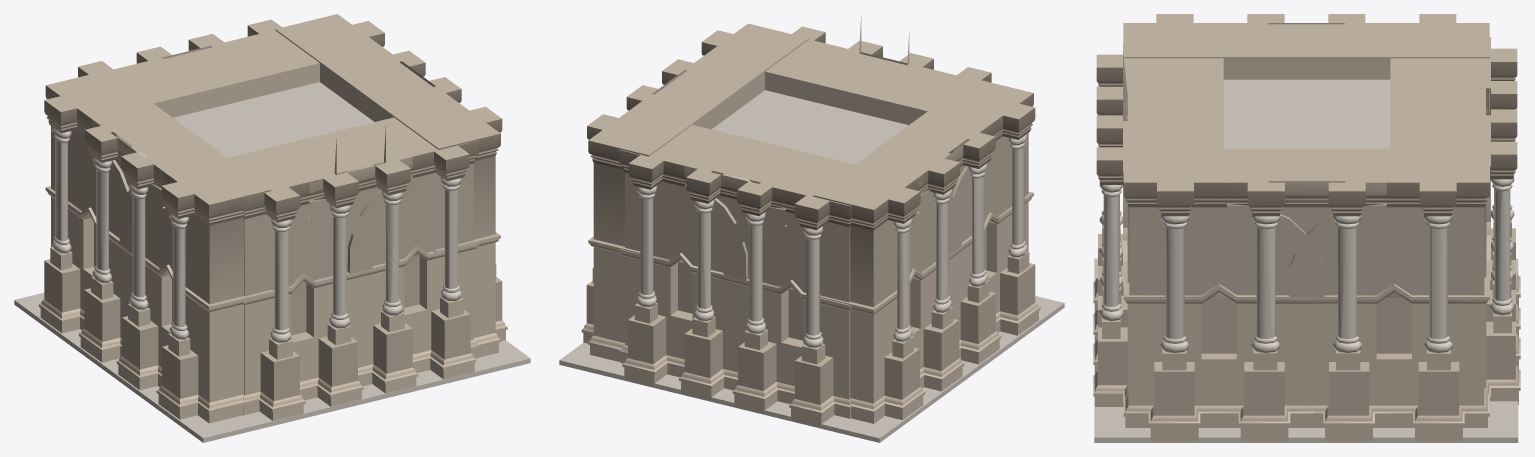
File: ruins entrance.fbx
3 views of the same model, side by side, from view 1: azimuth 30°, elevation 25°; view 2: azimuth 150°, elevation 25°; view 3: azimuth 270°, elevation 25° (orthographic). The views are drawn at different scales.
Parts seen in each view (by area): view 1: Mesh01.003, Mesh01.005, Mesh01.001, Mesh01.006, Mesh01.004, Cube.002, Mesh01.009, Cube.001, Mesh01.010, Mesh01.002; view 2: Mesh01.009, Mesh01.006, Mesh01.010, Mesh01.005, Mesh01.002, Cube.002, Mesh01.004, Mesh01.003, Cube.001, Mesh01.001; view 3: Mesh01.004, Mesh01.002, Mesh01.003, Mesh01.006, Cube.002, Mesh01.010, Mesh01.009, Cube.001, Mesh01.001, Mesh01.005.
Part boxes in pixels (bbox=[...]): Mesh01.003: bbox=[265, 117, 479, 393]; Mesh01.005: bbox=[92, 119, 273, 423]; Mesh01.001: bbox=[228, 138, 412, 420]; Mesh01.006: bbox=[39, 70, 224, 362]; Mesh01.004: bbox=[322, 48, 507, 357]; Cube.002: bbox=[173, 82, 374, 157]; Mesh01.009: bbox=[78, 40, 282, 146]; Cube.001: bbox=[14, 292, 530, 442]; Mesh01.010: bbox=[162, 19, 319, 115]; Mesh01.002: bbox=[275, 14, 435, 121]; Mesh01.009: bbox=[684, 133, 854, 427]; Mesh01.006: bbox=[813, 111, 988, 423]; Mesh01.010: bbox=[619, 125, 794, 400]; Mesh01.005: bbox=[859, 78, 1040, 364]; Mesh01.002: bbox=[581, 70, 763, 362]; Cube.002: bbox=[712, 90, 908, 164]; Mesh01.004: bbox=[636, 23, 808, 121]; Mesh01.003: bbox=[765, 16, 933, 110]; Cube.001: bbox=[559, 296, 1064, 442]; Mesh01.001: bbox=[791, 32, 991, 153]; Mesh01.004: bbox=[1123, 148, 1386, 440]; Mesh01.002: bbox=[1227, 148, 1489, 440]; Mesh01.003: bbox=[1093, 79, 1223, 406]; Mesh01.006: bbox=[1226, 14, 1489, 79]; Cube.002: bbox=[1223, 79, 1390, 148]; Mesh01.010: bbox=[1390, 88, 1520, 405]; Mesh01.009: bbox=[1390, 37, 1520, 337]; Cube.001: bbox=[1094, 258, 1518, 442]; Mesh01.001: bbox=[1093, 43, 1223, 342]; Mesh01.005: bbox=[1123, 14, 1344, 79].
Bounding box in the file's own units: 374 × 285 × 376.
